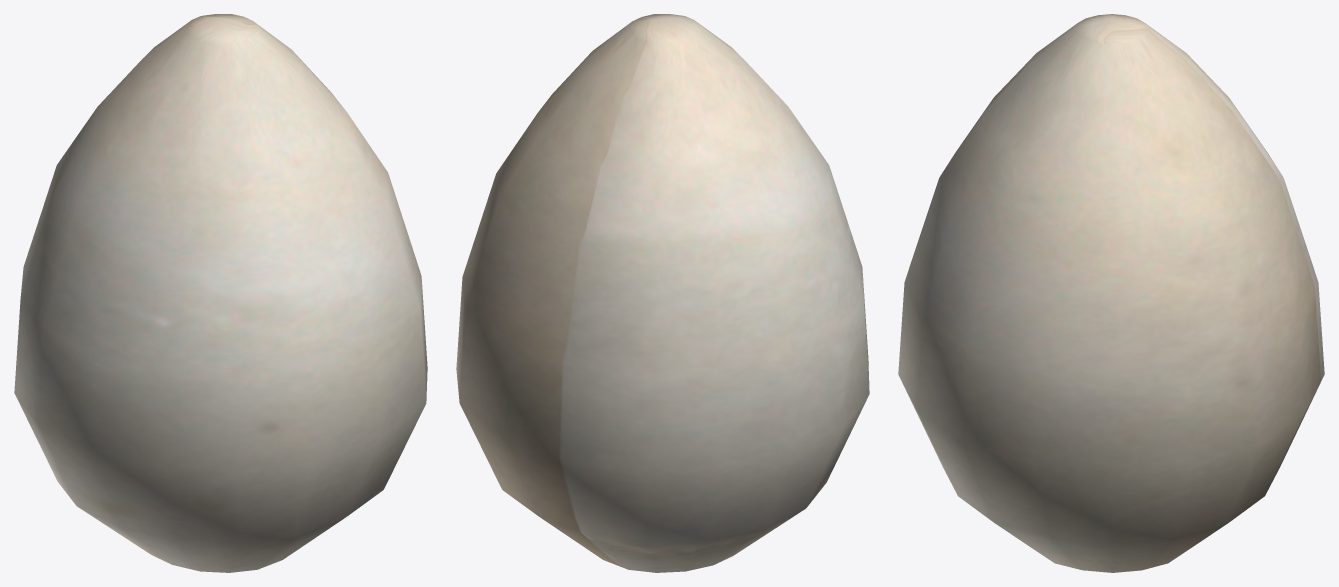
File: Egg.fbx
The picture shows the model from 3 angles, left to right: view 1: azimuth 30°, elevation 25°; view 2: azimuth 150°, elevation 25°; view 3: azimuth 270°, elevation 25°; orthographic projection.
Visible parts, largest first — view 1: pCube1; view 2: pCube1; view 3: pCube1.
Boxes of the visible parts, x1,y1,x2,y2 form: pCube1: (14, 14, 427, 572); pCube1: (456, 14, 869, 572); pCube1: (898, 14, 1324, 572).
Size of the model in its own units: 1.57 by 2.22 by 1.6.
